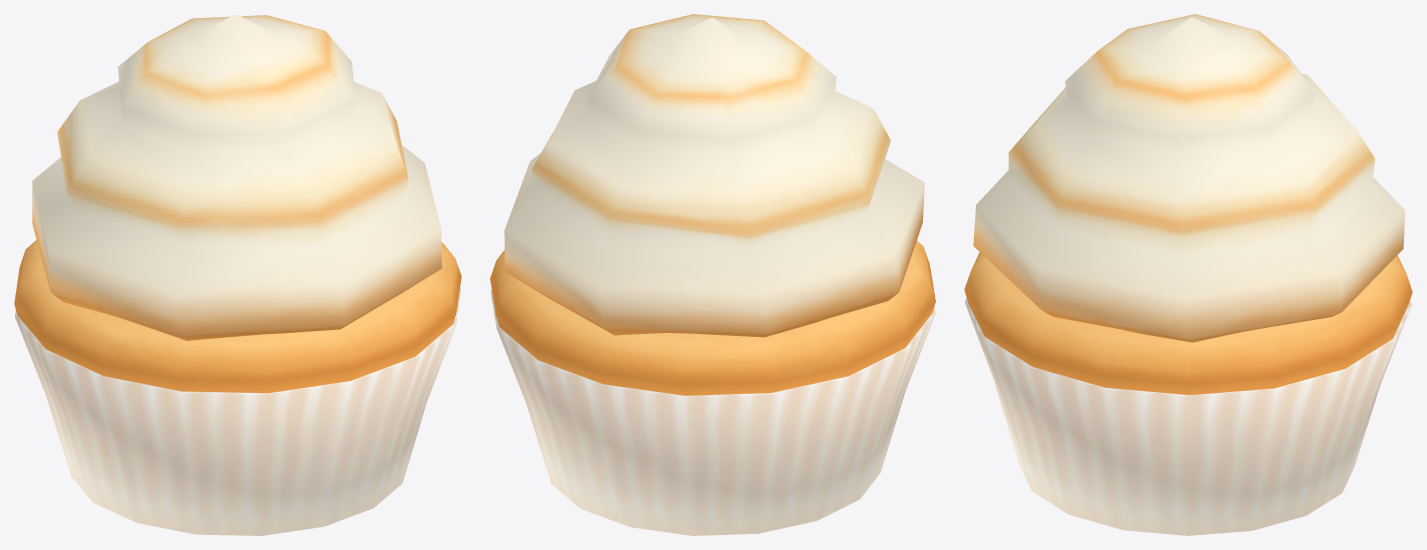
The model's file is brown_cupcake.glb.
The picture shows the model from 3 angles, left to right: view 1: azimuth 30°, elevation 25°; view 2: azimuth 150°, elevation 25°; view 3: azimuth 270°, elevation 25°; orthographic projection.
Visible parts, largest first — view 1: brown_cupcake; view 2: brown_cupcake; view 3: brown_cupcake.
Part boxes in pixels (<box>): brown_cupcake: <box>14,14,461,535</box>; brown_cupcake: <box>490,14,935,535</box>; brown_cupcake: <box>964,14,1412,535</box>.
Size of the model in its own units: 0.5254 by 0.5802 by 0.5254.
Materials: 1 (1 with a texture image).
